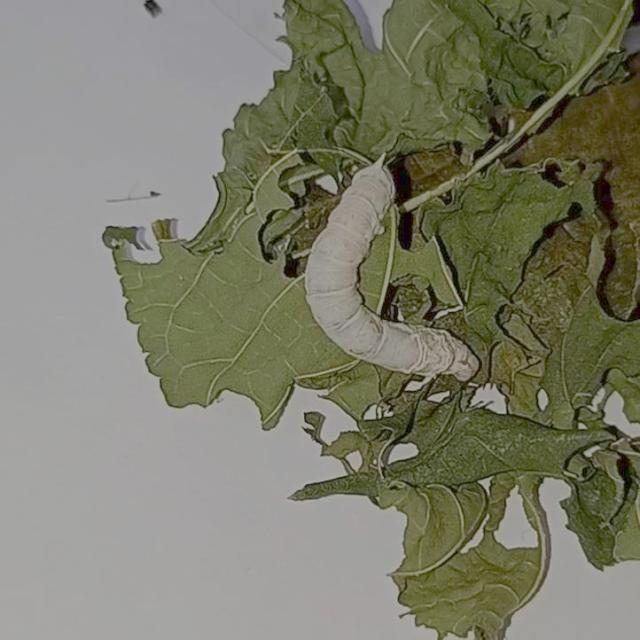Healthy: (298, 132, 490, 409)
